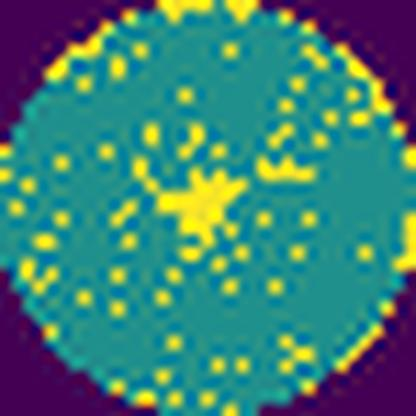Center: (129, 152, 249, 250)
